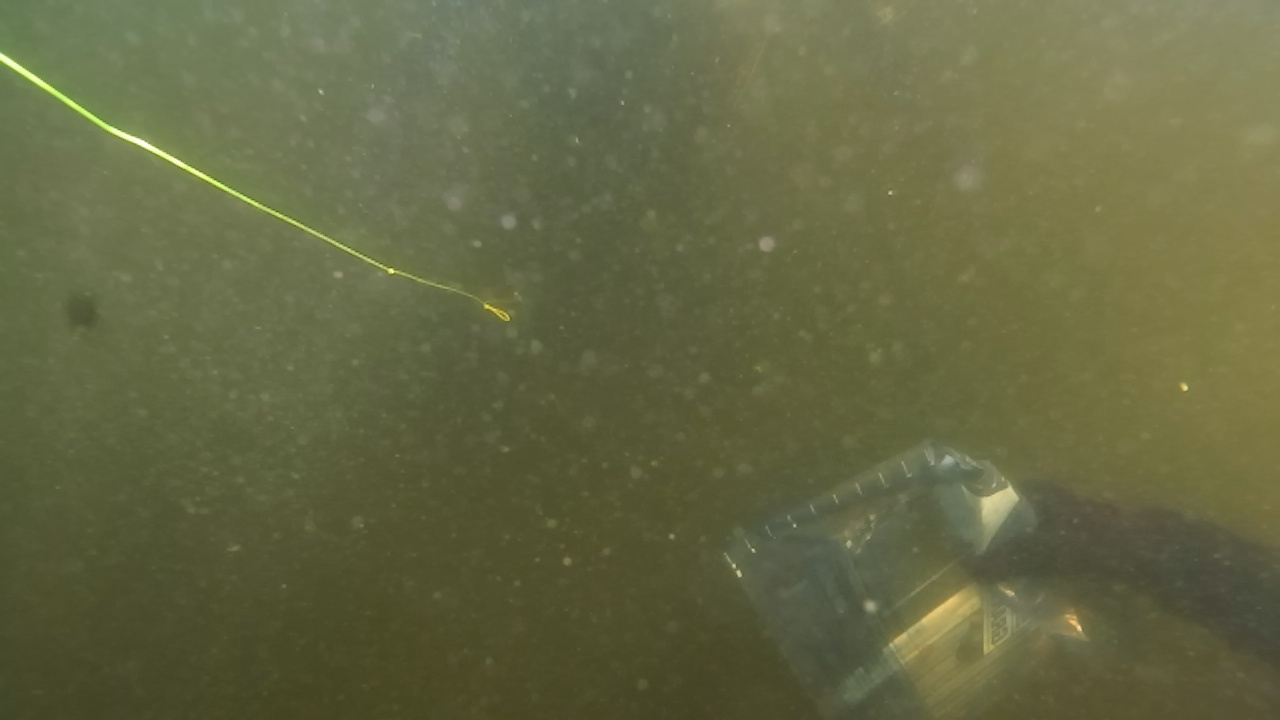Hand: (932, 458, 1120, 596)
